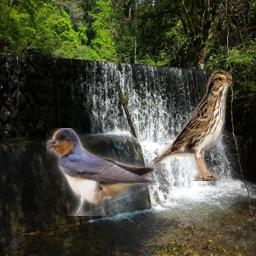Sparrow: (151, 70, 232, 181)
Swallow: (46, 128, 157, 216)
